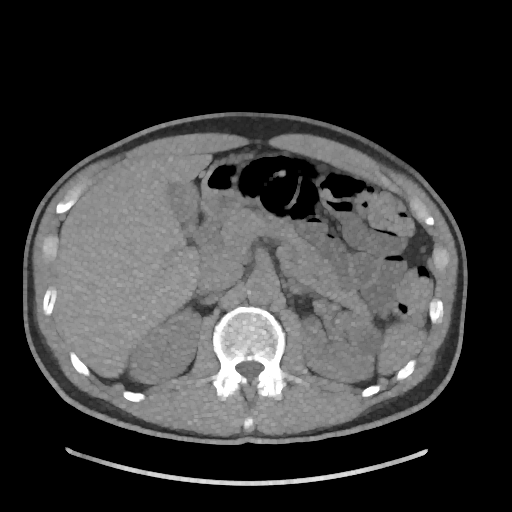Lesion: (349, 325, 385, 355)
